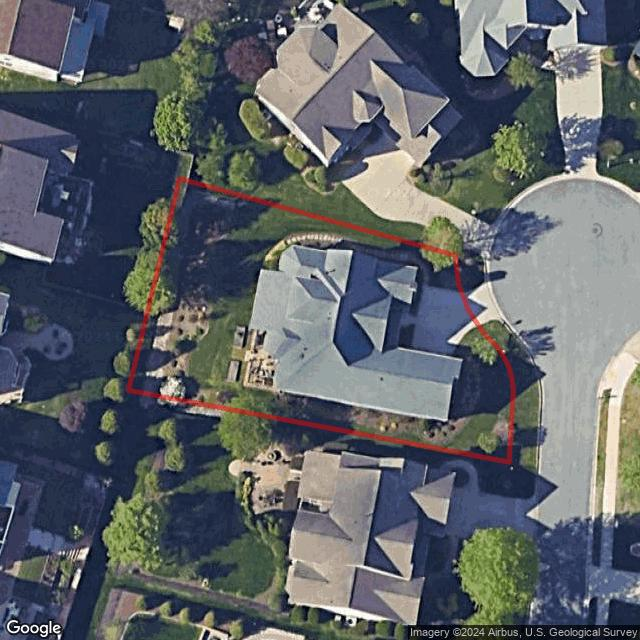Driveway: (399, 284, 477, 358)
Extra-Driveway: (462, 282, 502, 326)
Extra-Lawn: (478, 321, 539, 473), (457, 255, 484, 293)
House: (246, 245, 464, 422)
Lawn: (126, 174, 511, 464)
Other: (271, 356, 483, 446), (262, 234, 432, 287), (141, 295, 214, 381), (226, 326, 277, 391), (399, 326, 417, 348), (410, 292, 420, 315)
